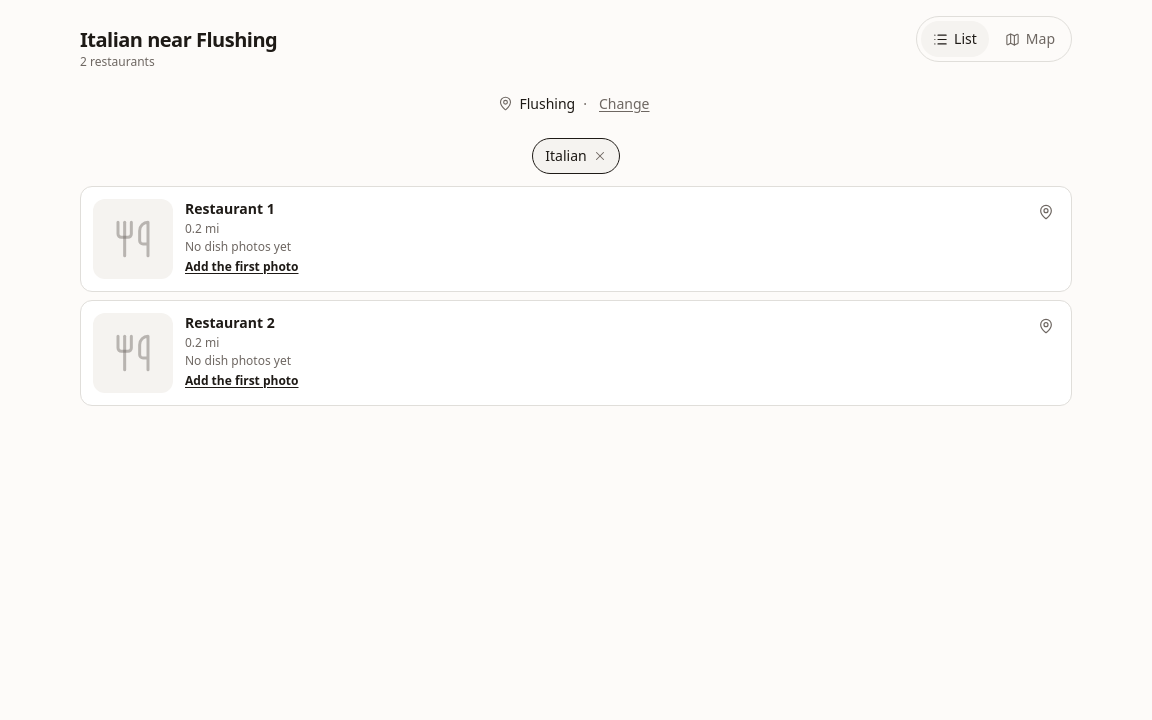
Test: landing here from a cuisine tile › offers a way to change where it is looking
Click the button "Change": click(624, 104) left=595, top=82, right=654, bottom=126
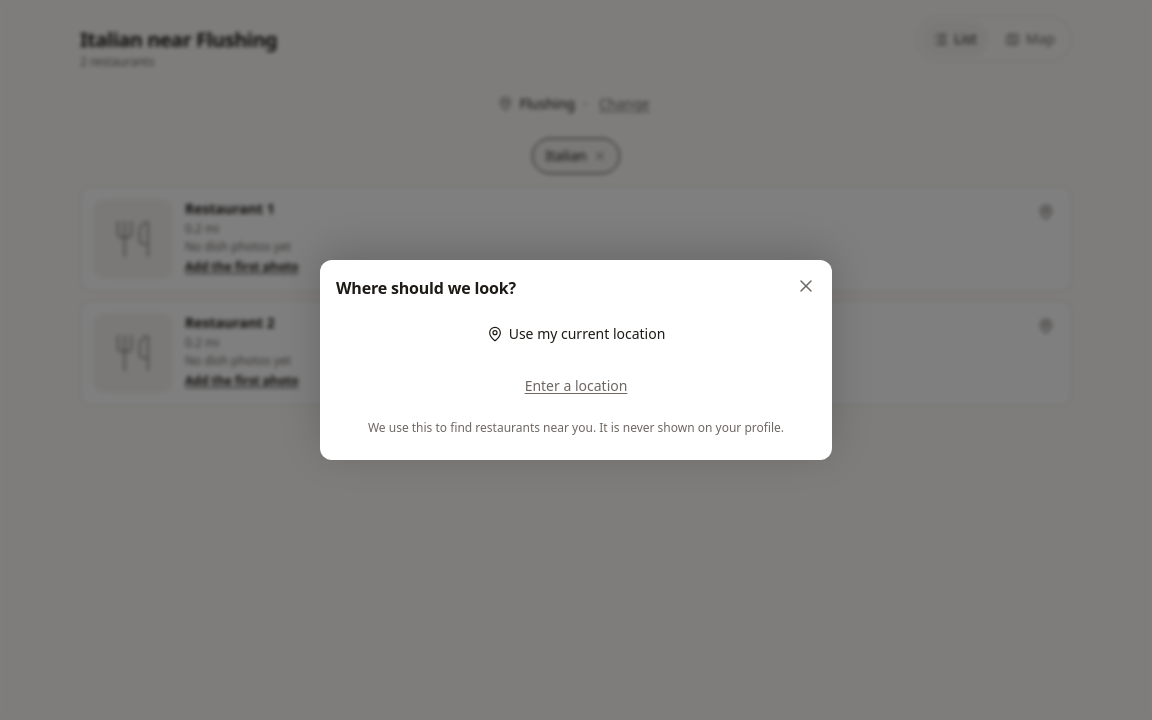
Now the dialog is shown
